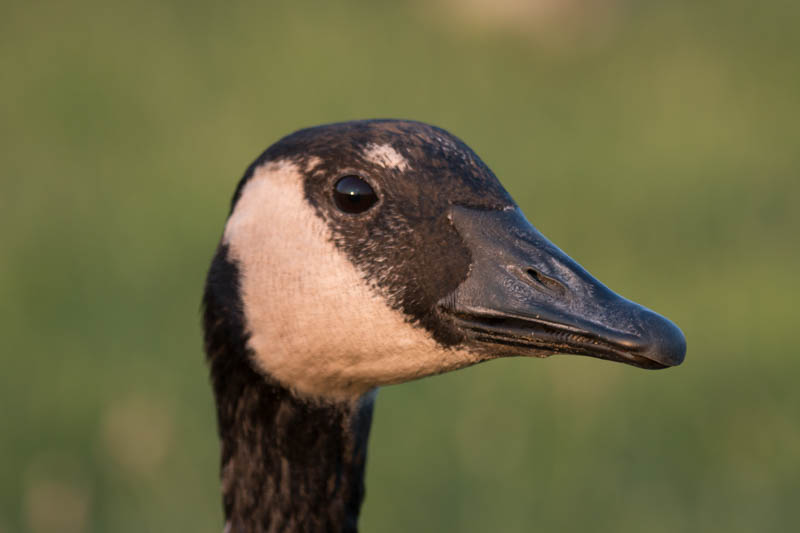goose-head: (202, 118, 687, 406)
